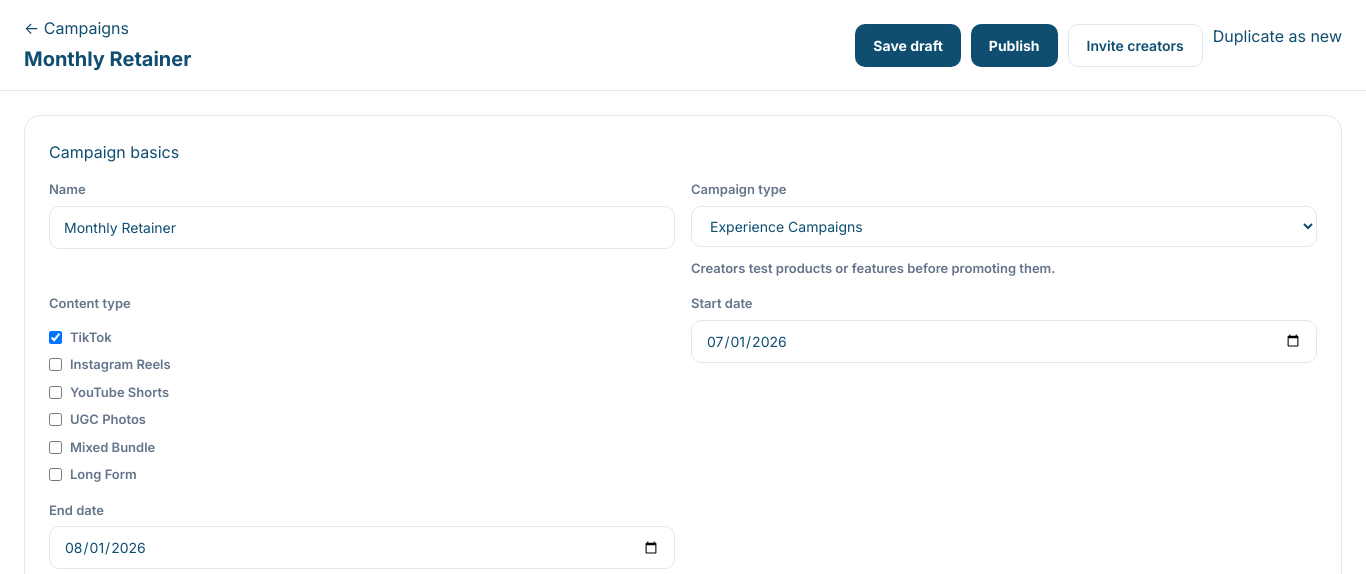
Test: CampaignDetailContent lifecycle buttons › saves edited draft fields
Replace the text in the field showing "Monthly Retainer" with "Updated Retainer" at x=362, y=227, box [49,206,675,248]
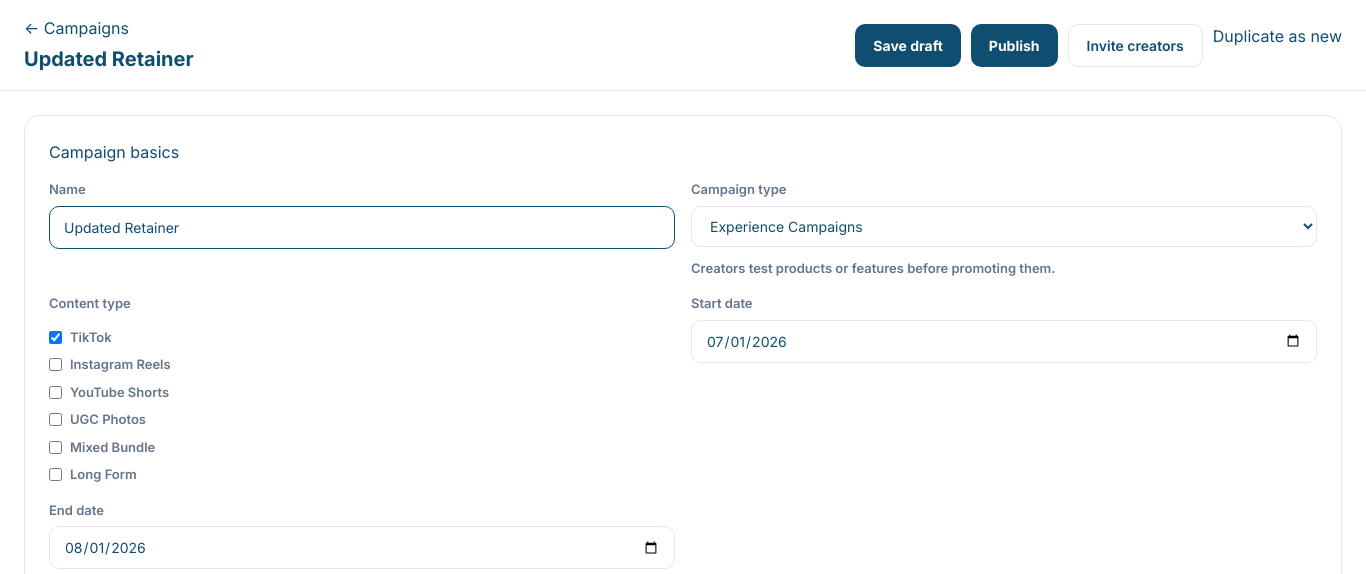
Click the button "Save draft" at x=908, y=45, box [855,24,961,66]
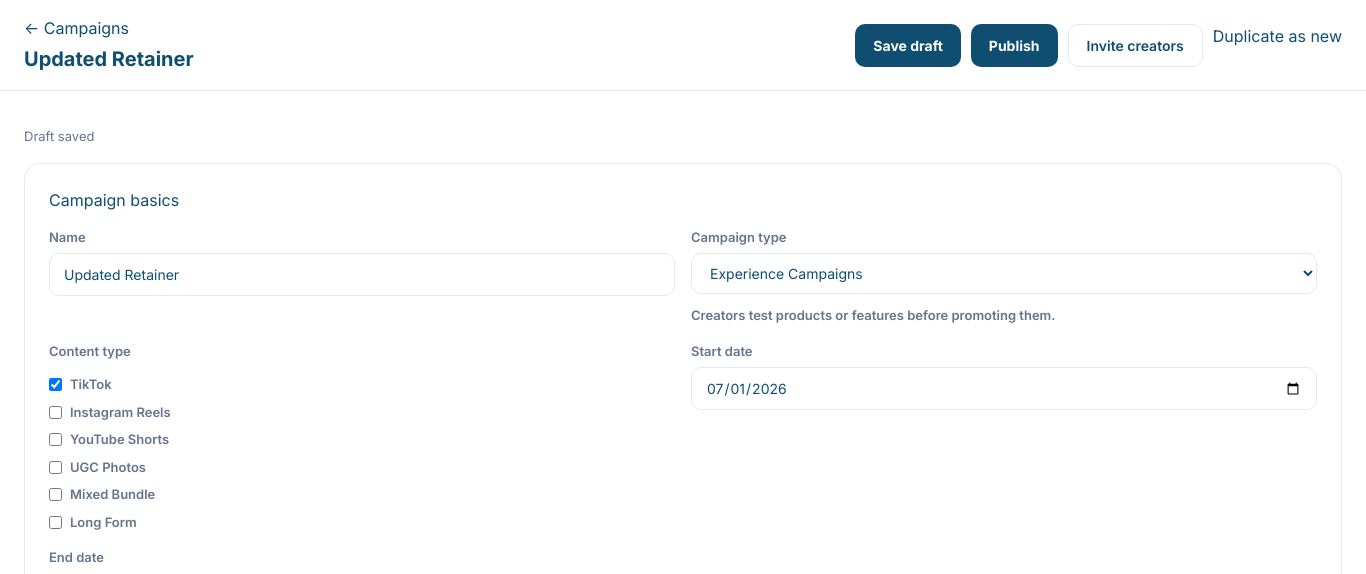
expect the text "Draft saved" is shown: met, box [24,128,94,144]
